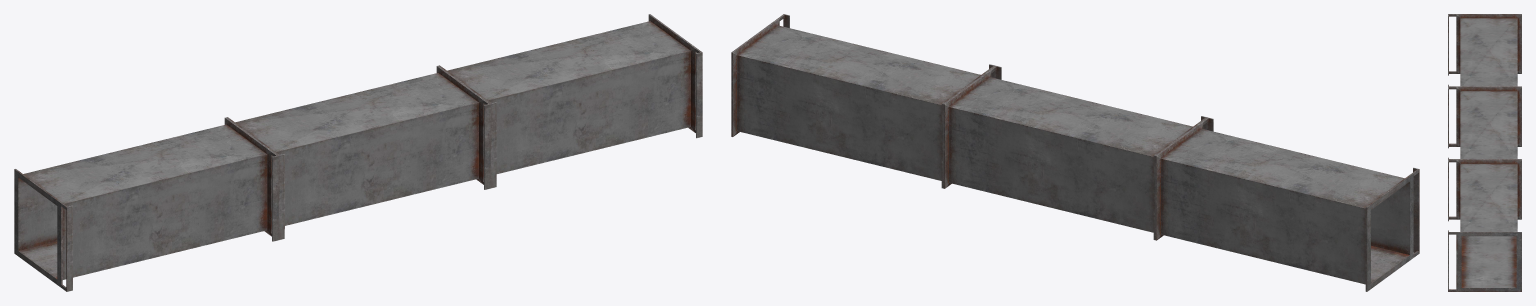
Rendered from sm-airduct-group-2.glb.
The picture shows the model from 3 angles, left to right: view 1: azimuth 30°, elevation 25°; view 2: azimuth 150°, elevation 25°; view 3: azimuth 270°, elevation 25°; orthographic projection. The views are drawn at different scales.
Visible parts, largest first — view 1: SM_AirDuct_Group_2; view 2: SM_AirDuct_Group_2; view 3: SM_AirDuct_Group_2.
Part boxes in pixels (x1,y1,x2,y2): SM_AirDuct_Group_2: [14, 14, 702, 291]; SM_AirDuct_Group_2: [731, 14, 1419, 291]; SM_AirDuct_Group_2: [1448, 14, 1521, 291].
Bounding box in the file's own units: 6.3 × 0.8 × 0.9.
Materials: 1 (1 with a texture image).
